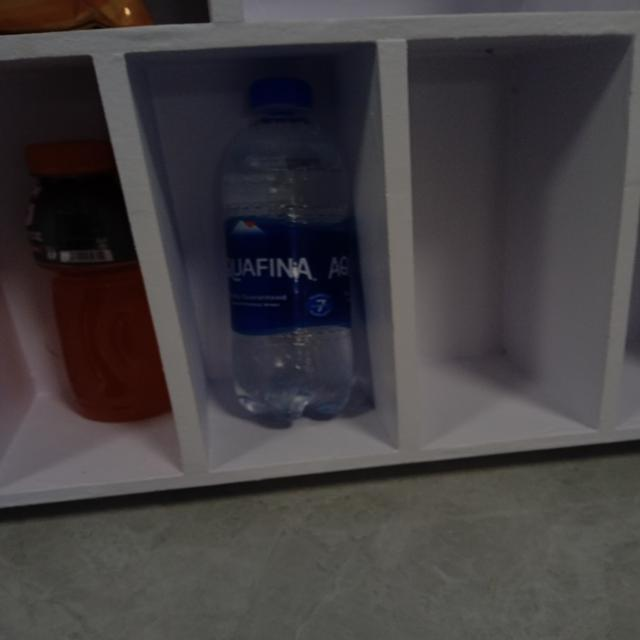Plastic: (219, 80, 357, 409), (35, 138, 164, 418), (6, 0, 158, 29)
